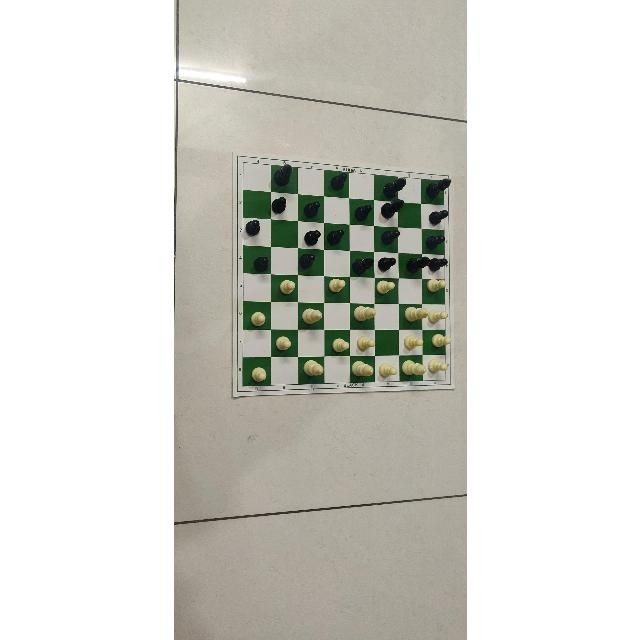black-bishop: (380, 178, 407, 200), (380, 198, 406, 219), (425, 179, 451, 199), (349, 257, 373, 277), (405, 256, 431, 273), (273, 164, 293, 186)
black-pawn: (379, 228, 400, 246), (302, 201, 320, 221), (329, 172, 347, 192), (326, 228, 344, 247), (304, 229, 321, 249), (252, 255, 270, 273), (353, 203, 371, 221), (270, 196, 287, 214), (297, 253, 316, 269), (377, 257, 396, 273), (426, 234, 446, 249), (428, 209, 448, 224), (244, 220, 262, 236), (430, 257, 448, 273)
white-bishop: (400, 359, 426, 376), (403, 305, 428, 322), (301, 308, 323, 326), (352, 305, 375, 322), (350, 362, 373, 378), (303, 360, 325, 376)
white-pawn: (425, 278, 447, 294), (403, 335, 424, 350), (377, 278, 395, 295), (249, 310, 267, 327), (250, 366, 267, 383), (358, 335, 375, 352), (332, 338, 350, 354), (378, 364, 396, 380), (429, 358, 447, 374), (429, 310, 447, 326), (280, 279, 296, 295), (328, 277, 345, 292), (433, 334, 451, 348), (275, 335, 291, 350)
